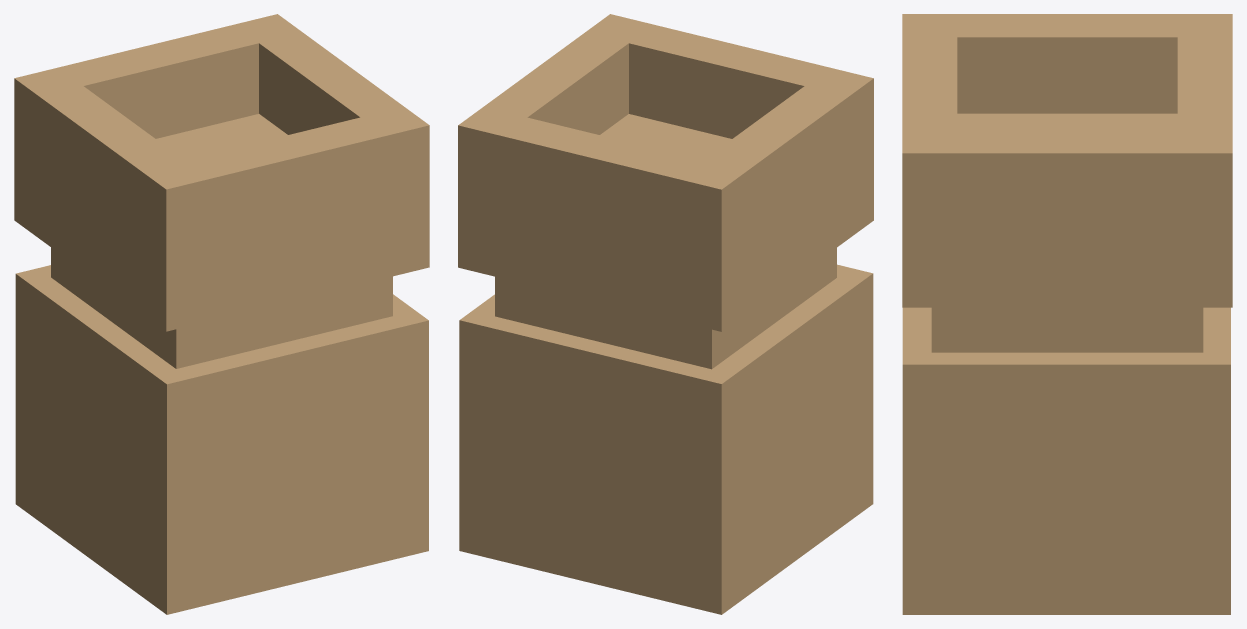
3 views of the same model, side by side, from view 1: azimuth 30°, elevation 25°; view 2: azimuth 150°, elevation 25°; view 3: azimuth 270°, elevation 25° (orthographic). The views are drawn at different scales.
Parts seen in each view (by area): view 1: 四角1凹_白; view 2: 四角1凹_白; view 3: 四角1凹_白.
Part boxes in pixels (x1,y1,x2,y2): 四角1凹_白: (14,14,429,614); 四角1凹_白: (458,14,873,614); 四角1凹_白: (902,14,1232,614).
Bounding box in the file's own units: 0.022 × 0.034 × 0.022.
